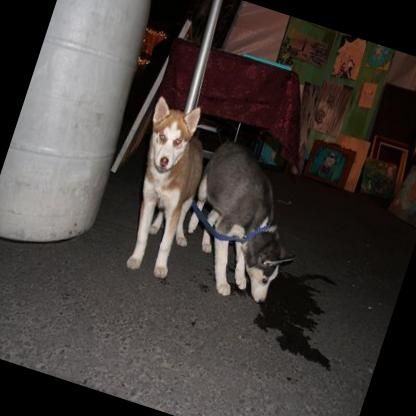Eskimo_dog: (168, 138, 322, 312), (96, 86, 229, 284)
